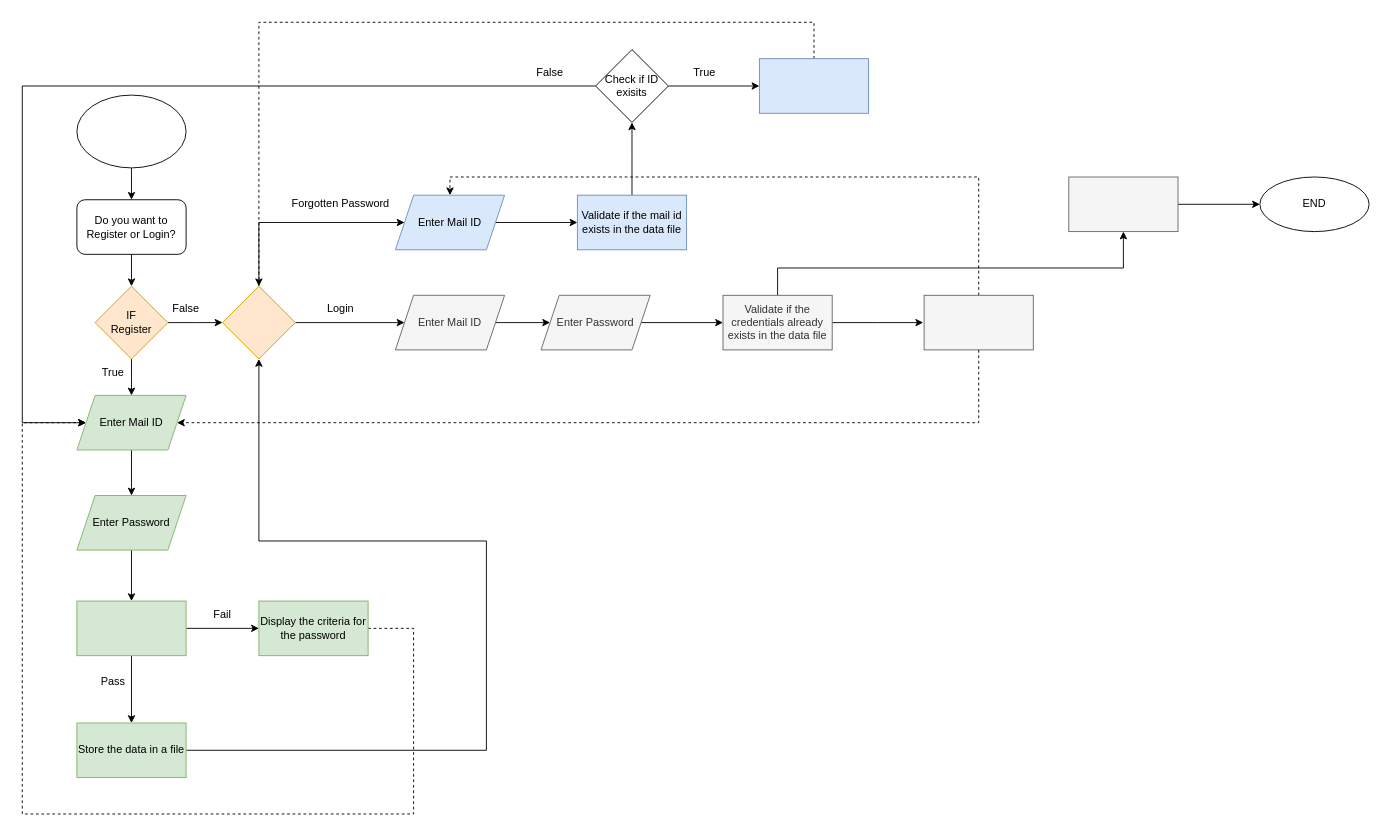
Some shapes in this 1385 by 837 pixel diagram are drawn without their labels. Here are the shapes that lost their labels. From the top down, the box of each, then its label:
(758, 58, 869, 113): Display the password
(76, 94, 186, 168): Start
(1068, 176, 1178, 232): On successful validation, display Login Sucessful
(222, 285, 295, 359): Login or forgotten password
(923, 294, 1033, 350): Invalid credentials
(76, 600, 186, 656): Validate if the credentials match the criteria
